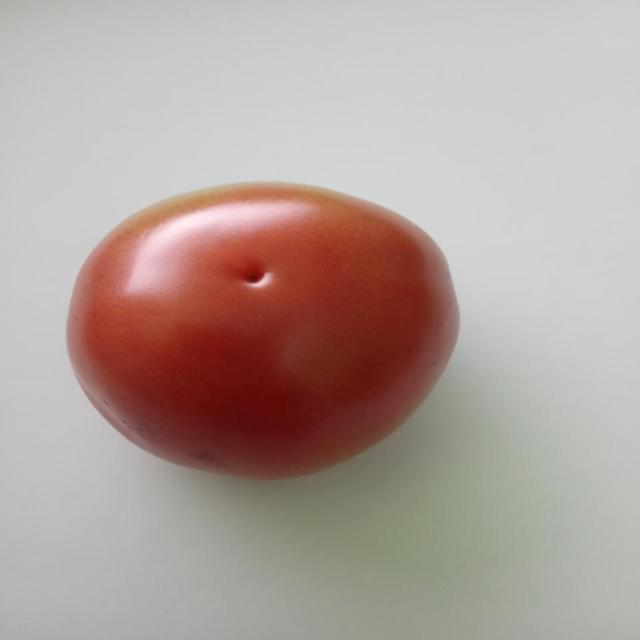Healthy Fruit: (38, 115, 309, 321)
